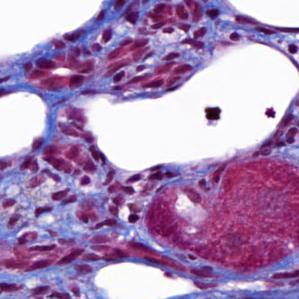inflammation: (88, 23, 115, 56), (141, 161, 182, 182), (49, 187, 82, 210)
